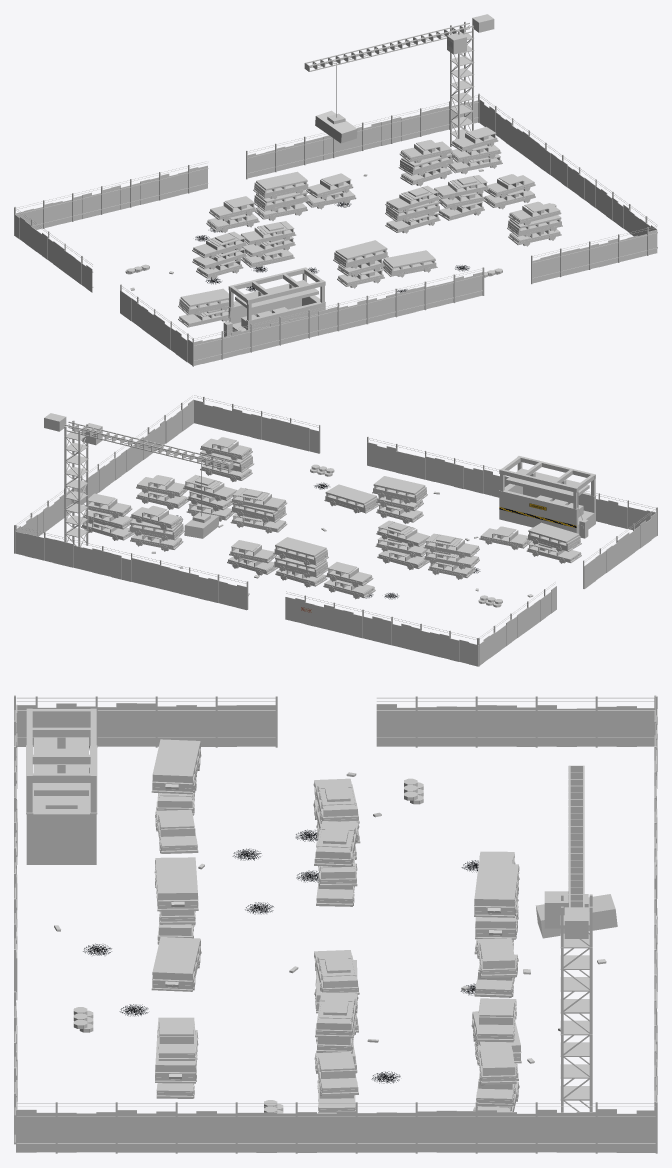
Rendered from junkyard.glb.
3 views of the same model, one above another, from view 1: azimuth 30°, elevation 25°; view 2: azimuth 150°, elevation 25°; view 3: azimuth 270°, elevation 25° (orthographic). The views are drawn at different scales.
Visible parts, largest first — view 1: junkyard; view 2: junkyard; view 3: junkyard.
Boxes of the visible parts, <box> form: junkyard: <box>14,14,657,366</box>; junkyard: <box>14,395,657,666</box>; junkyard: <box>14,695,657,1153</box>.
Size of the model in its own units: 48.18 by 12.53 by 32.19.
4 materials, 3 textured.
